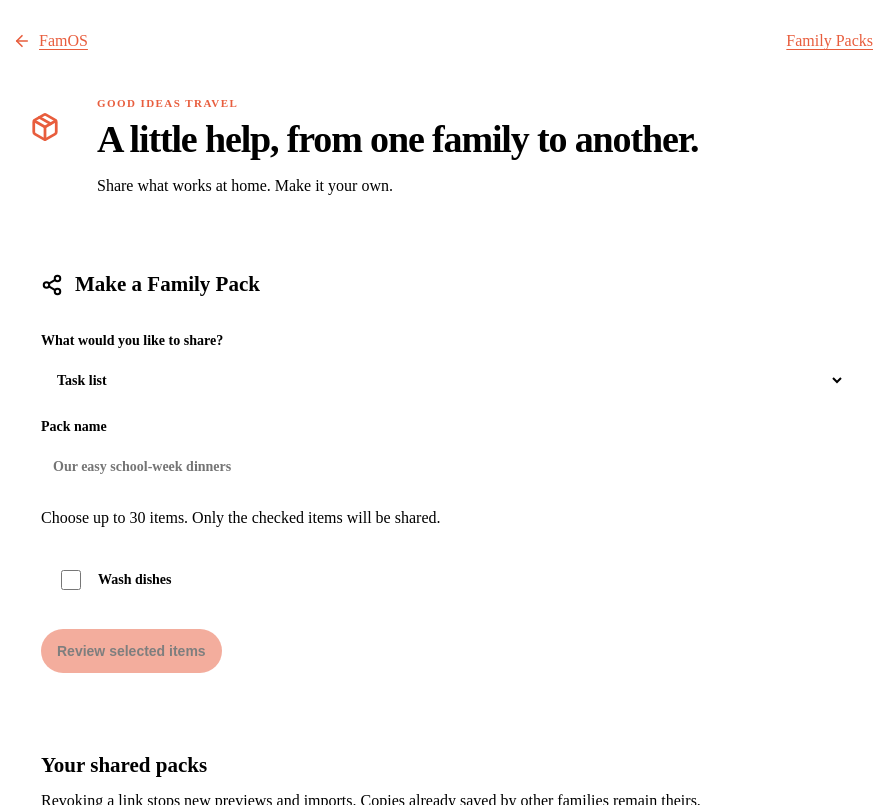
Test case: requires a privacy review, strips private data and confirms successful publication
The width and height of the screenshot is (890, 805).
Expected: the text "Wash dishes" is shown, [98, 572, 172, 588]
Type "Weekly reset" into the field labelled "Pack name". click: (443, 466)
box: [41, 443, 845, 489]
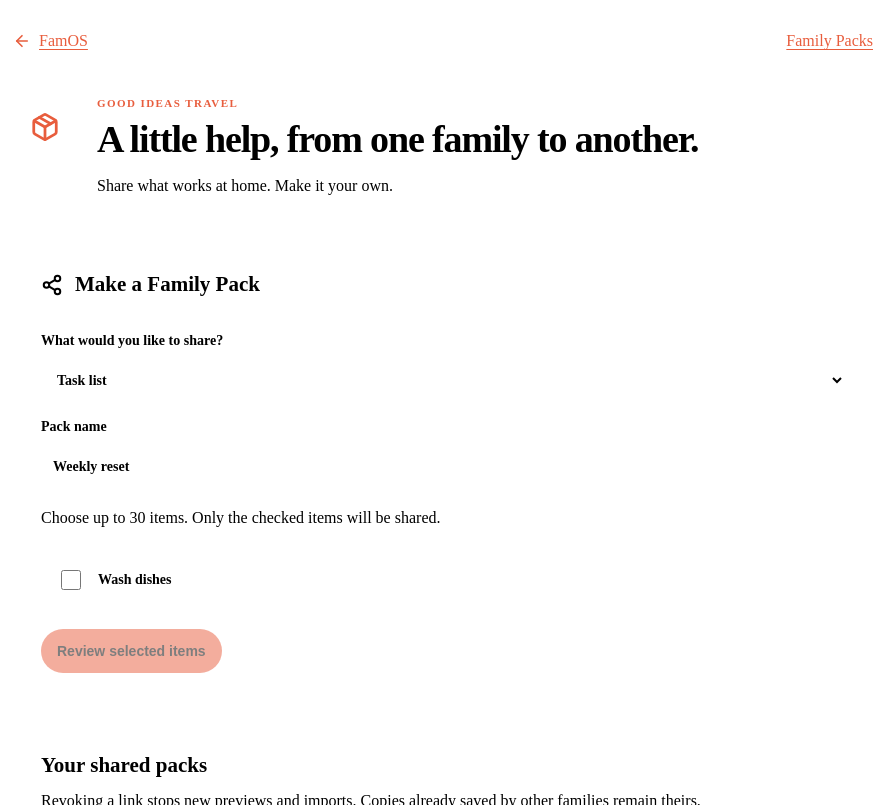
Click the checkbox. click: (71, 580)
box: [61, 570, 81, 590]
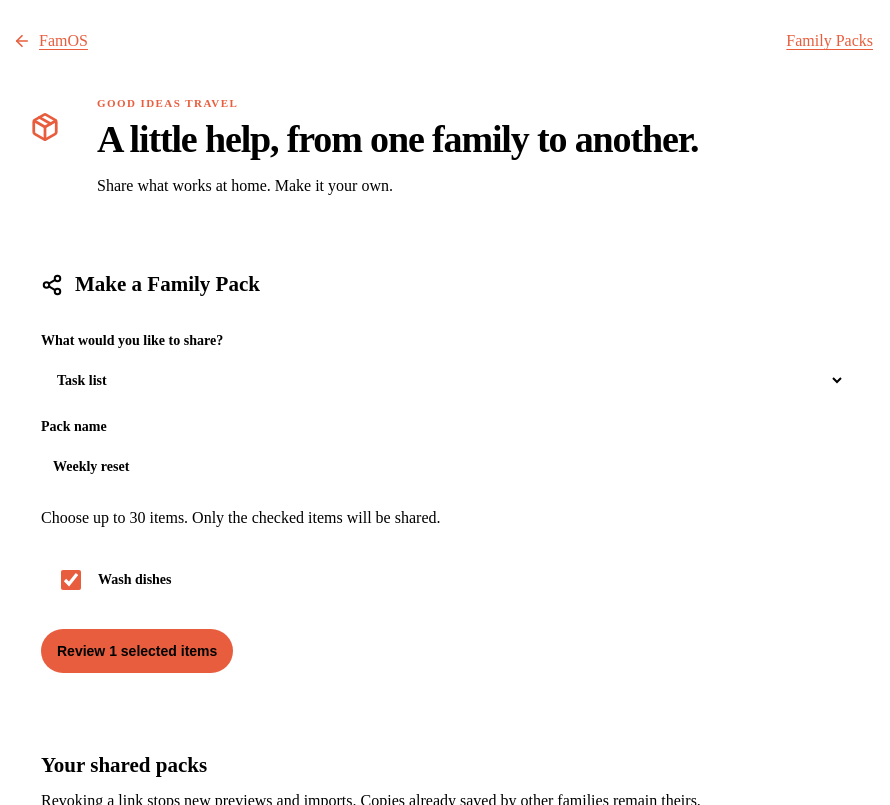
Click the button "Review 1 selected items". click: (137, 651)
box: [41, 629, 233, 673]
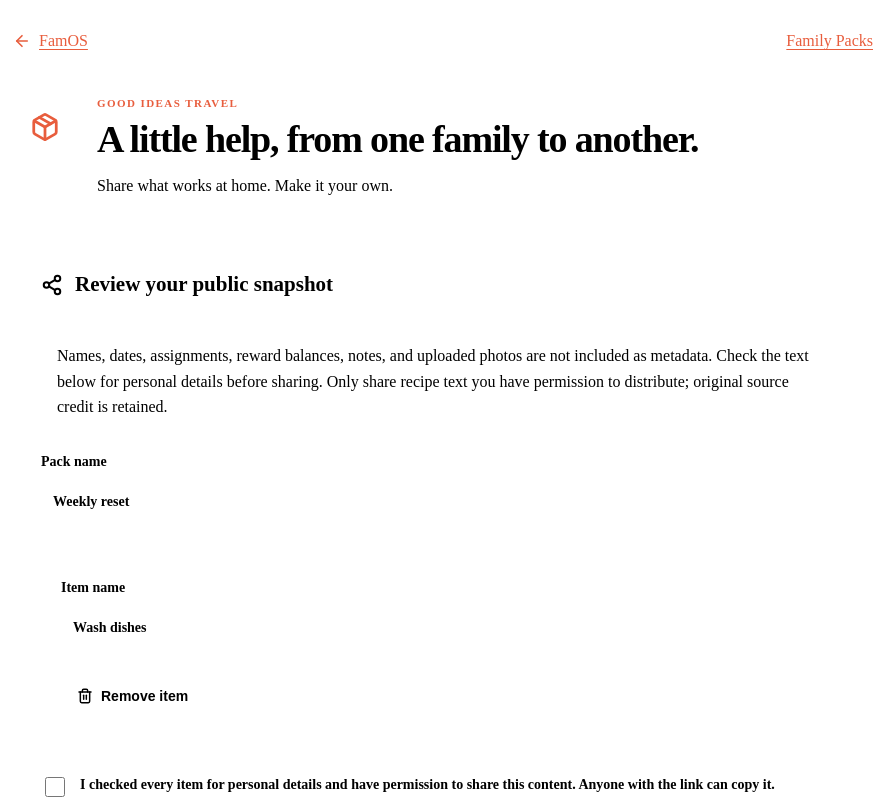
Click the checkbox. click: (55, 787)
box: [45, 777, 65, 797]
(page scrolled)
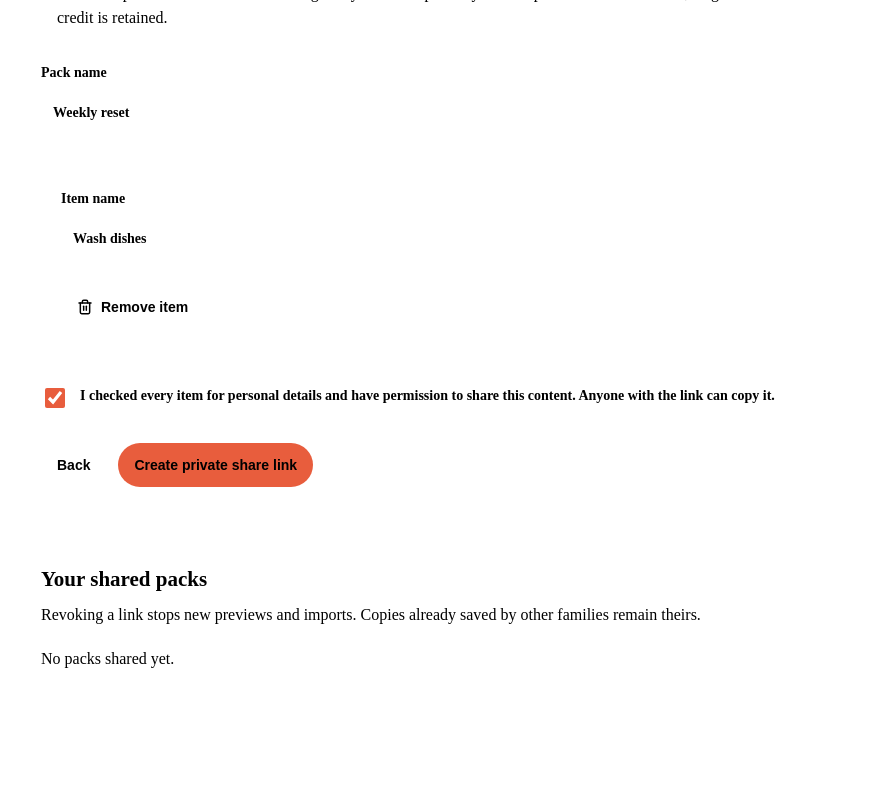
Click the button "Create private share link". click: (216, 465)
box: [118, 443, 313, 487]
(page scrolled)
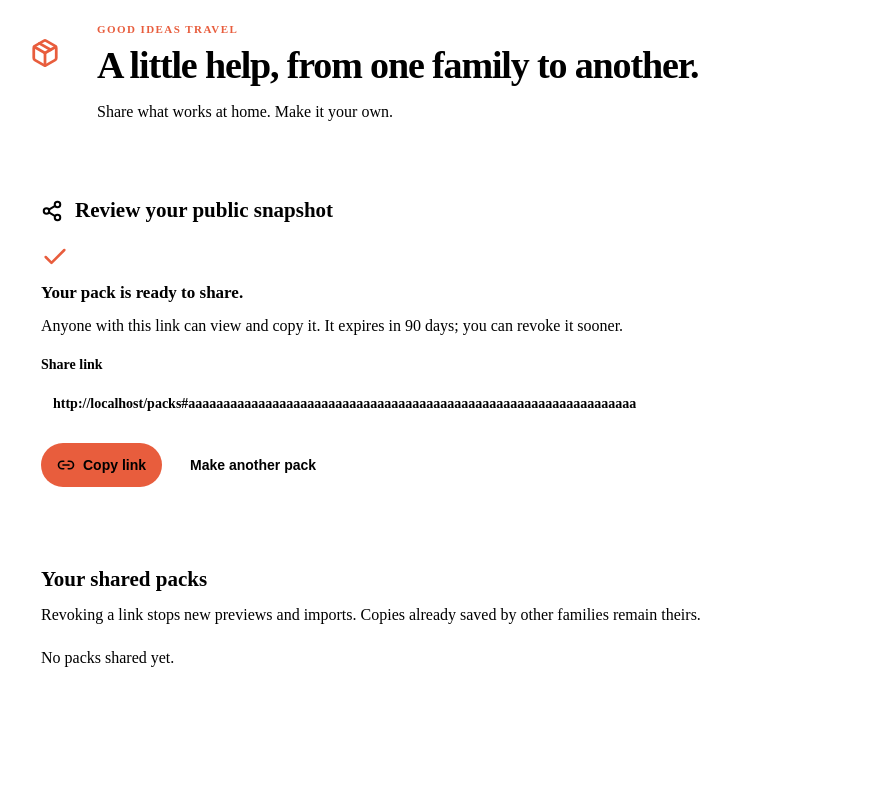
Expected: the heading "Your pack is ready to share." is shown, [41, 283, 243, 302]
